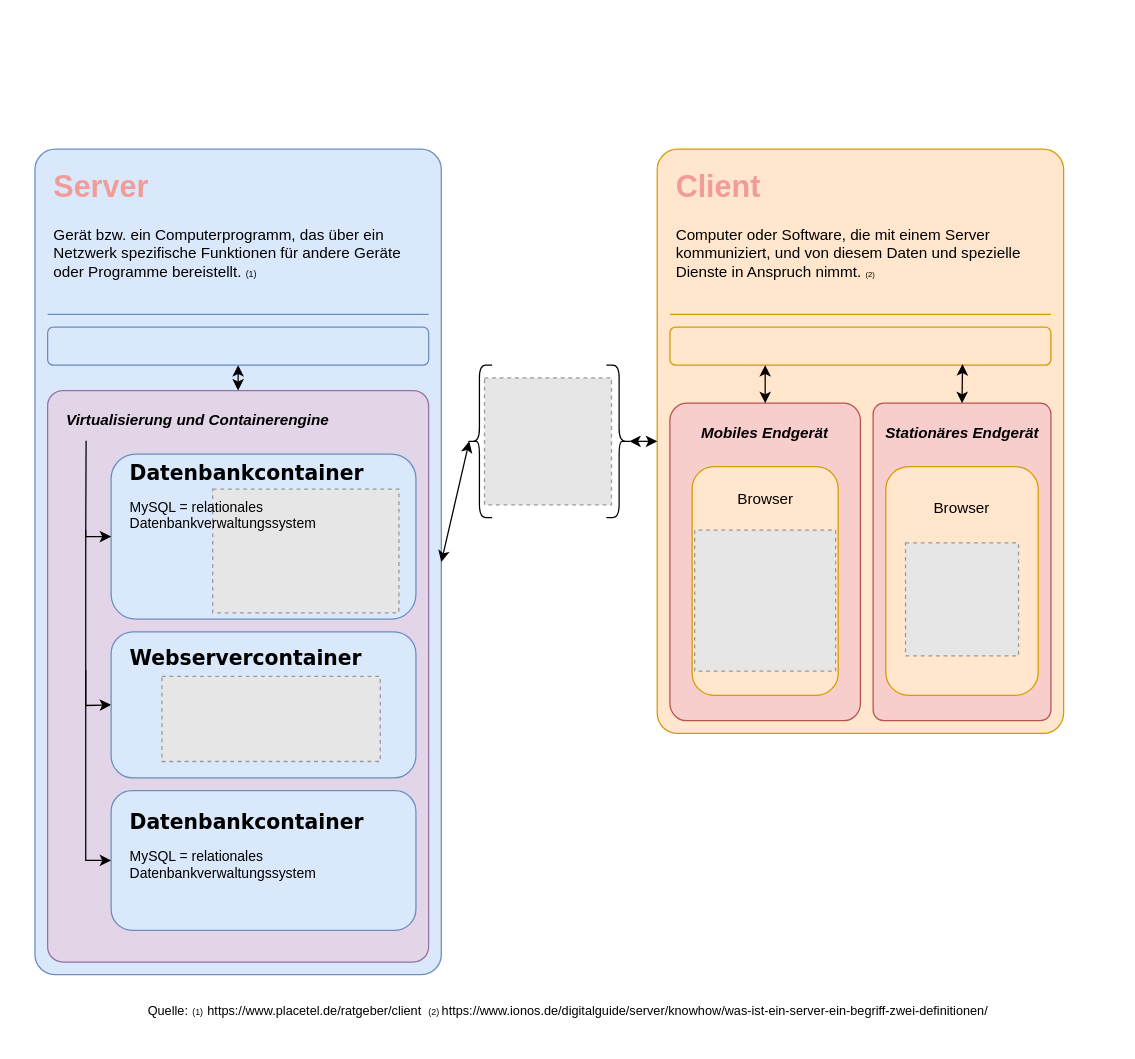
This 1135x1059 diagram has some shape labels left out. Grey dashed boxes stand in for pictures. Each missing label, with the box of its shape:
Endgeräte: (669, 326, 1051, 365)
Ubuntu: (46, 326, 429, 365)
